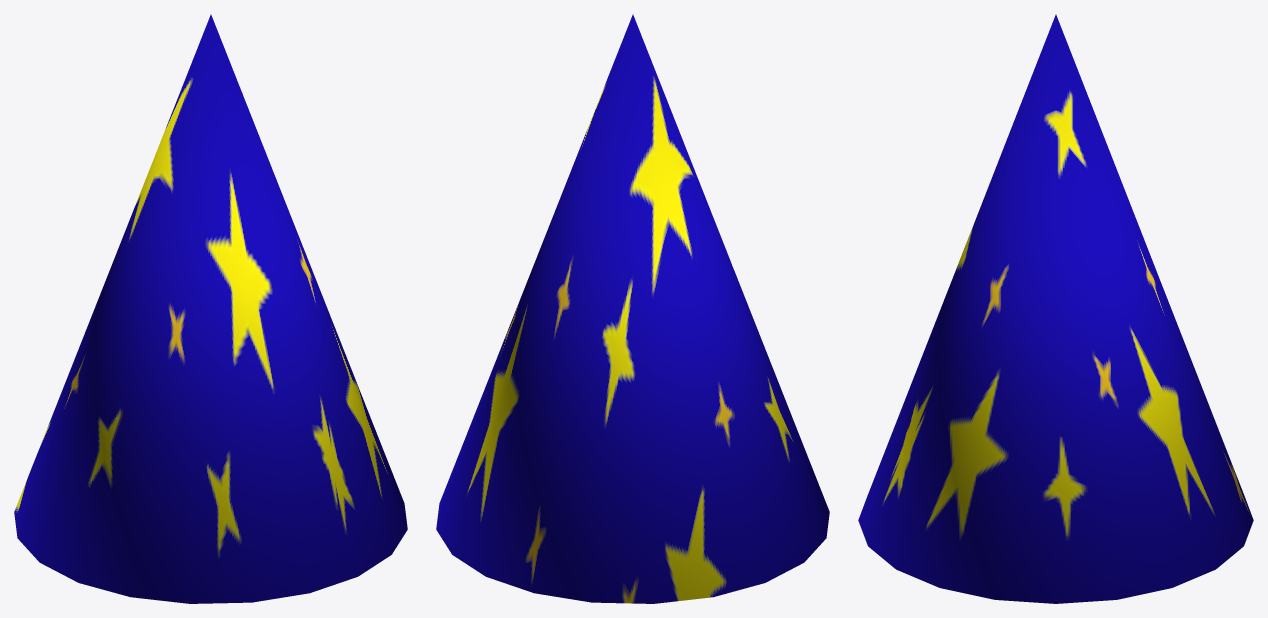
Rendered from NoMercy_Player_Hat.glb.
3 views of the same model, side by side, from view 1: azimuth 30°, elevation 25°; view 2: azimuth 150°, elevation 25°; view 3: azimuth 270°, elevation 25° (orthographic).
Parts seen in each view (by area): view 1: Cone; view 2: Cone; view 3: Cone.
Boxes of the visible parts, left/top/right/bottom form: Cone: left=14, top=14, right=407, bottom=603; Cone: left=436, top=14, right=829, bottom=603; Cone: left=858, top=14, right=1253, bottom=603.
Bounding box in the file's own units: 0.92 × 1.3 × 0.92.
Materials: 1 (1 with a texture image).
